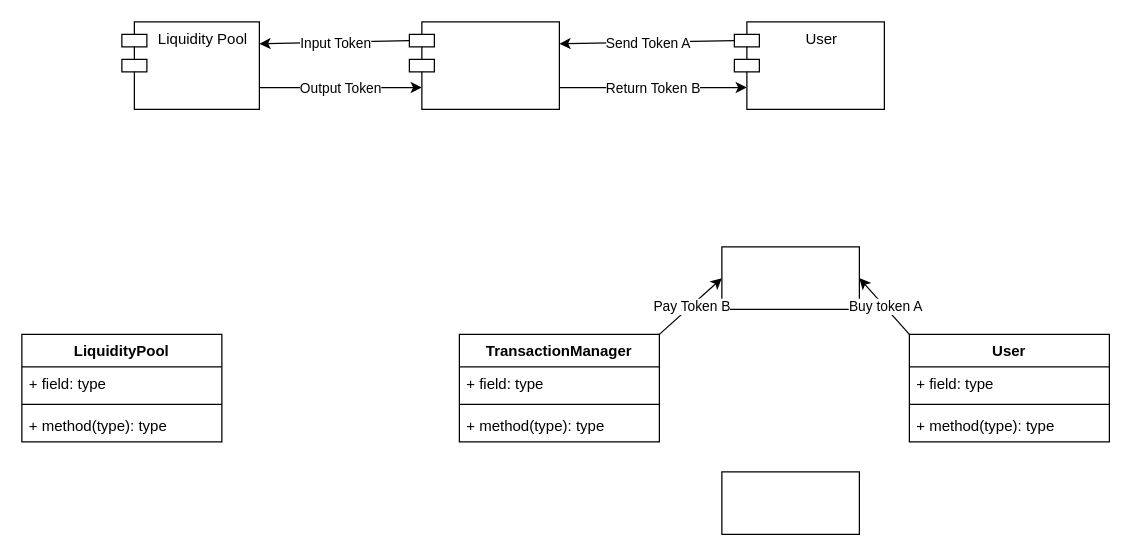
This 1131x556 diagram has some shape labels left out. The centre of each missing label's shape, as x and y in pixels:
"deposit()" belongs at point 790,502.
"swap()" belongs at point 790,277.
"Transaction Manager" belongs at point 483,65.
